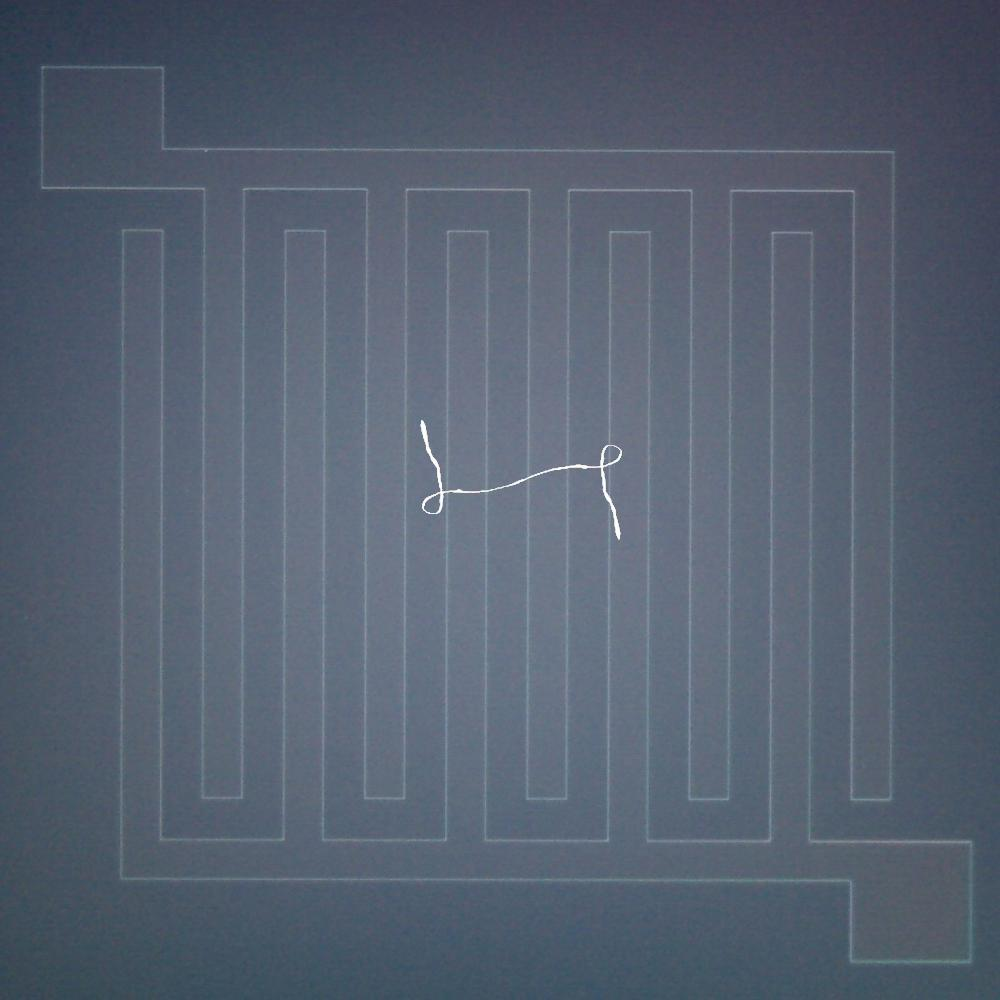line: (406, 408, 636, 548)
